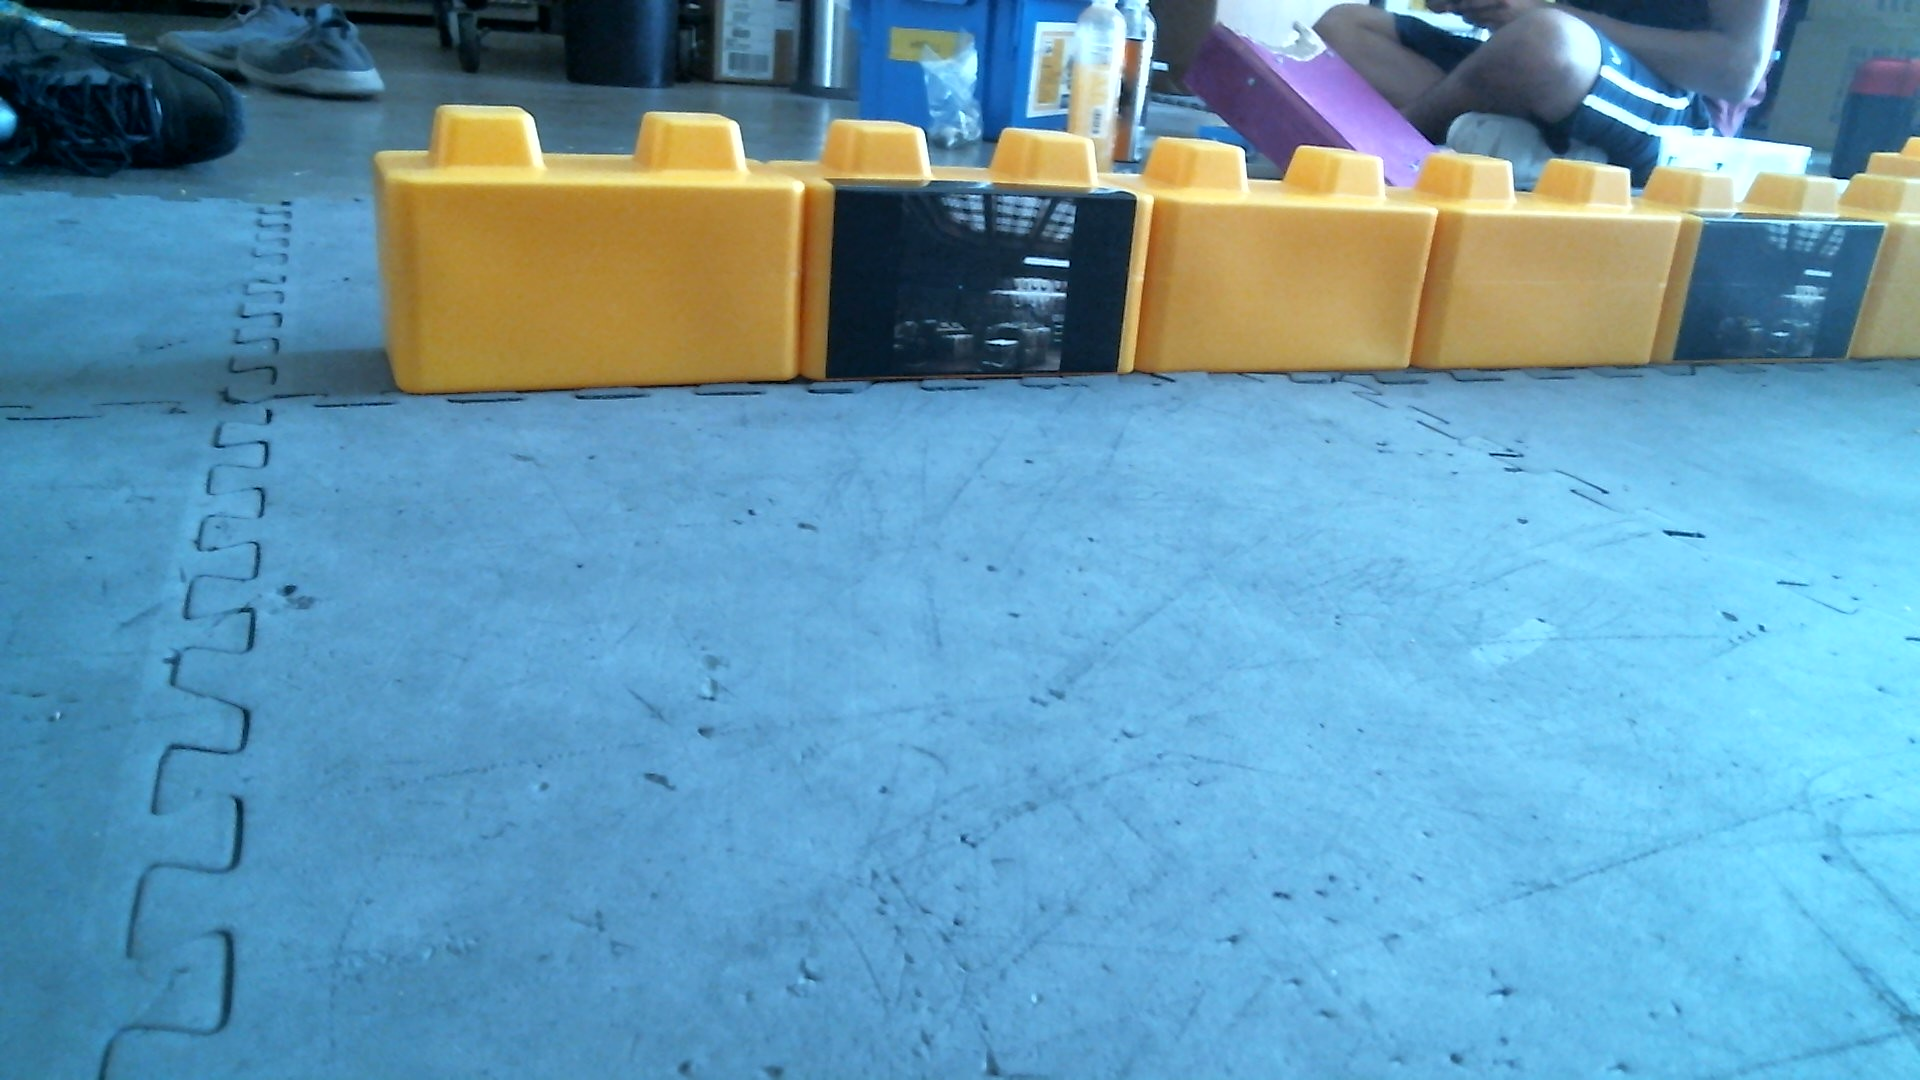skystone: (807, 117, 1139, 390), (1665, 171, 1887, 386)
stone: (389, 108, 808, 411), (1143, 138, 1429, 401), (1423, 152, 1679, 373)
